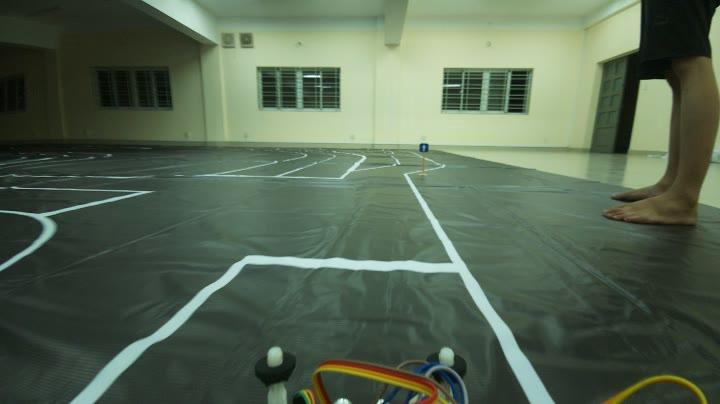onewayroad: (417, 140, 435, 158)
